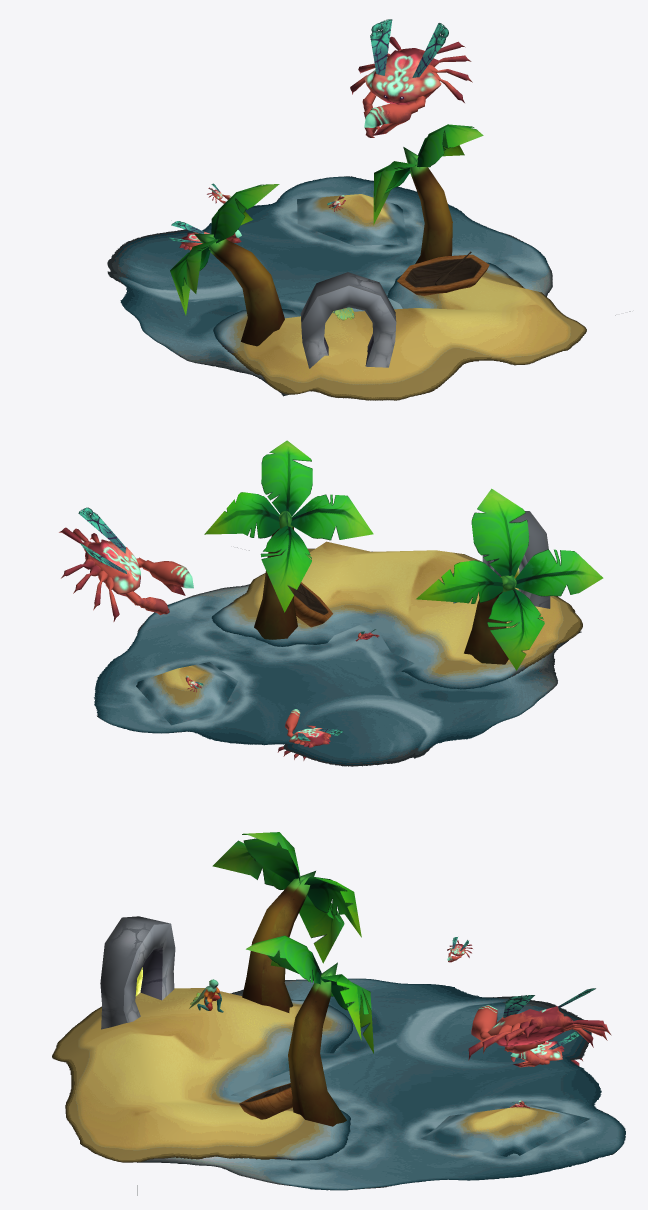
Rendered from sceneE.b29a6a7a.gltf.
The picture shows the model from 3 angles, top to bottom: view 1: azimuth 30°, elevation 25°; view 2: azimuth 150°, elevation 25°; view 3: azimuth 270°, elevation 25°; orthographic projection. The views are drawn at different scales.
Parts seen in each view (by area): view 1: node_default_-10136_5, node_default_-10230_17, node_default_-10148_2, node_default_-10218_15, node_default_-10160_21, node_default_-10124_3, node_default_-10196_11; view 2: node_default_-10136_5, node_default_-10230_17, node_default_-10218_15, node_default_-10148_2, node_default_-10160_21, node_default_-10196_11, node_default_-10124_3; view 3: node_default_-10136_5, node_default_-10230_17, node_default_-10218_15, node_default_-10160_21, node_default_-10148_2, node_default_-10124_3, node_default_-10196_11, node_default_-10208_13.
Boxes of the visible parts, <box> form: node_default_-10136_5: <box>107,176,630,400</box>; node_default_-10230_17: <box>170,184,284,346</box>; node_default_-10148_2: <box>350,19,472,137</box>; node_default_-10218_15: <box>373,124,483,263</box>; node_default_-10160_21: <box>300,272,396,368</box>; node_default_-10124_3: <box>397,254,489,295</box>; node_default_-10196_11: <box>169,221,241,250</box>; node_default_-10136_5: <box>94,541,582,766</box>; node_default_-10230_17: <box>416,488,603,670</box>; node_default_-10218_15: <box>204,440,373,639</box>; node_default_-10148_2: <box>59,507,193,621</box>; node_default_-10160_21: <box>482,511,550,608</box>; node_default_-10196_11: <box>277,709,342,760</box>; node_default_-10124_3: <box>294,582,333,627</box>; node_default_-10136_5: <box>52,978,625,1195</box>; node_default_-10230_17: <box>212,832,361,1012</box>; node_default_-10218_15: <box>246,935,373,1126</box>; node_default_-10160_21: <box>100,916,175,1029</box>; node_default_-10148_2: <box>468,988,611,1060</box>; node_default_-10124_3: <box>239,1083,292,1119</box>; node_default_-10196_11: <box>510,1031,582,1067</box>; node_default_-10208_13: <box>189,979,223,1012</box>.
Size of the model in its own units: 20.39 by 8.96 by 23.52.
7 materials, 7 textured.
